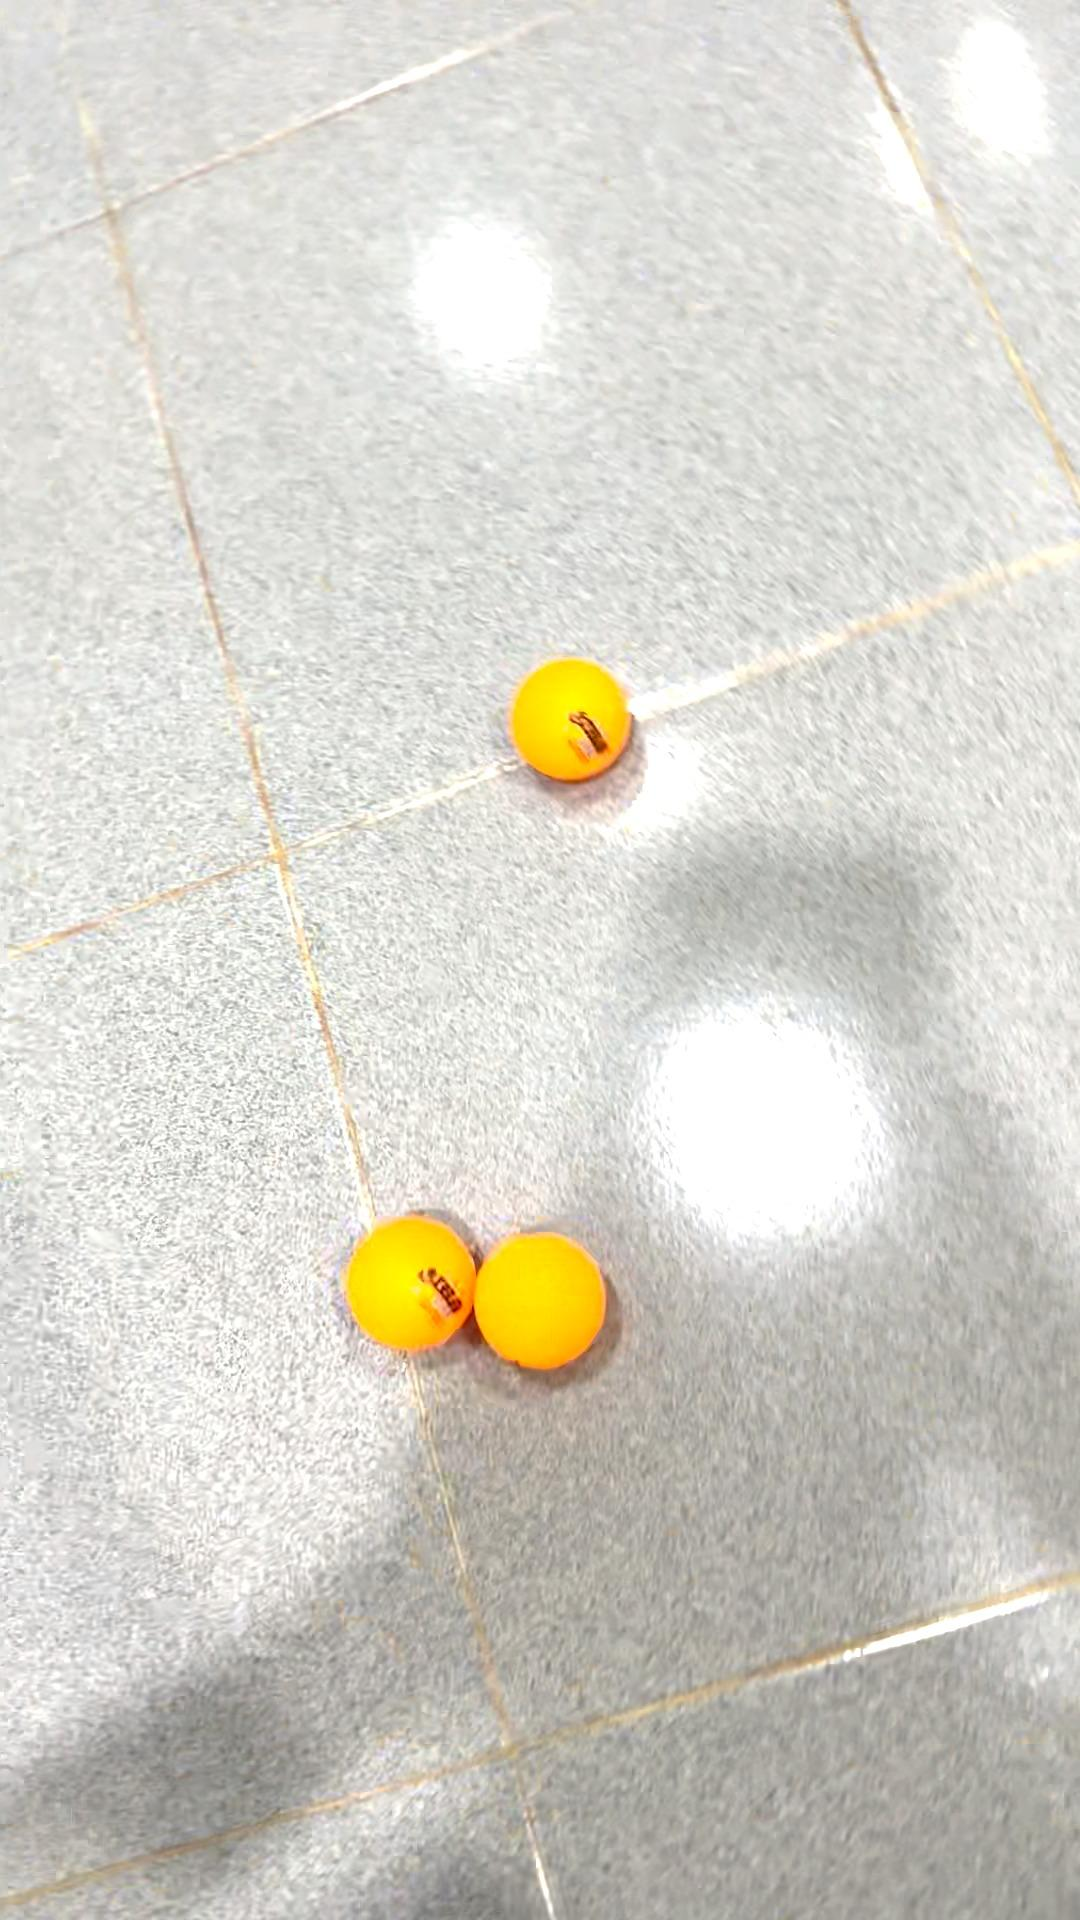oball: (338, 1204, 473, 1373), (473, 1226, 615, 1379), (497, 651, 644, 795)
